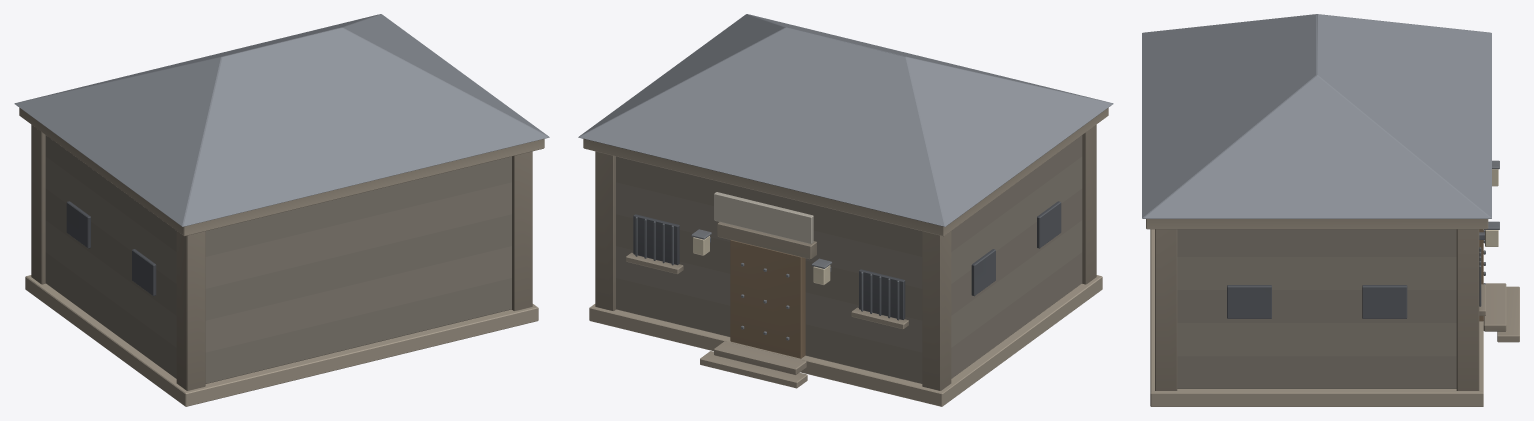
File: jail_exterior.glb
3 views of the same model, side by side, from view 1: azimuth 30°, elevation 25°; view 2: azimuth 150°, elevation 25°; view 3: azimuth 270°, elevation 25° (orthographic). The views are drawn at different scales.
Size of the model in its own units: 9.77 by 6.69 by 8.38.
